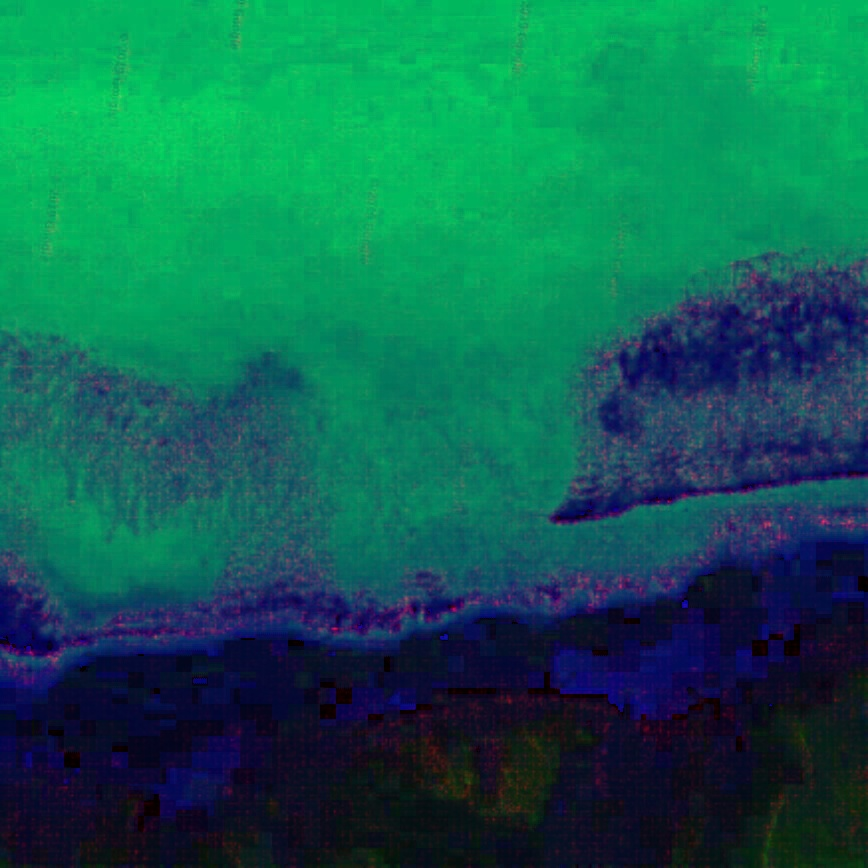rip_current: (294, 292, 583, 559)
